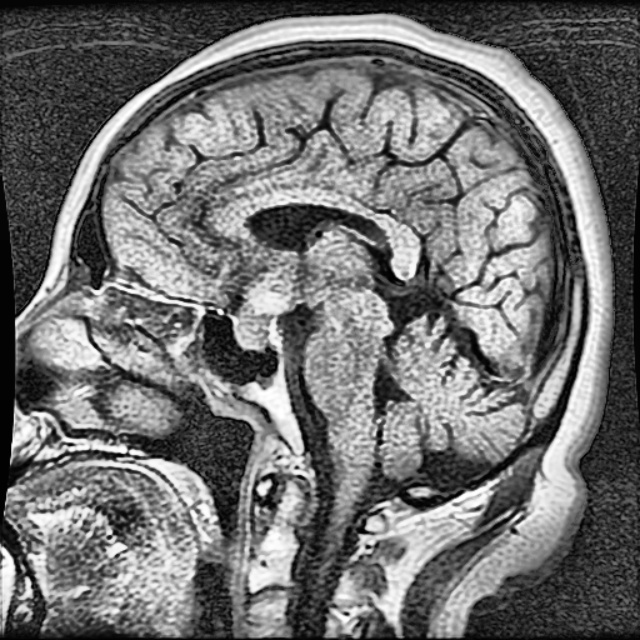Pituitary: (237, 260, 303, 344)
